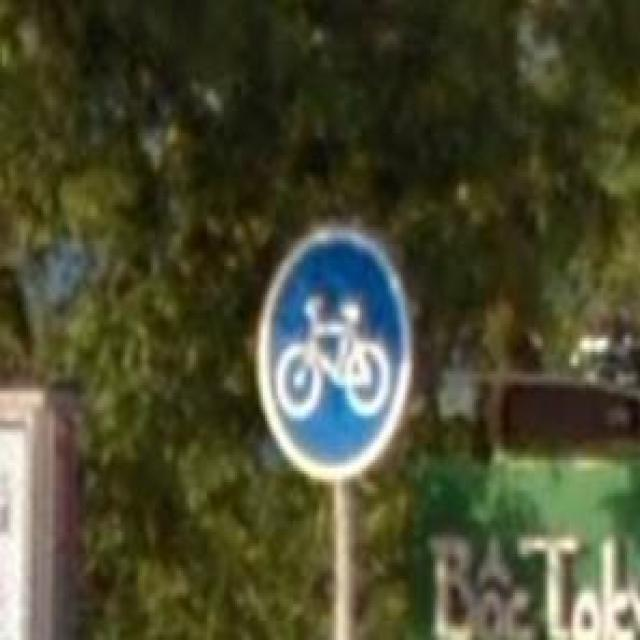bicycle: (256, 227, 414, 479)
